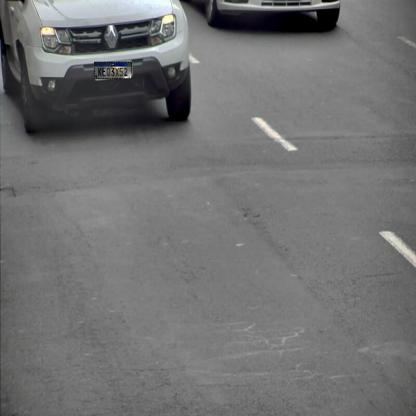PlacaM: (94, 62, 132, 79)
